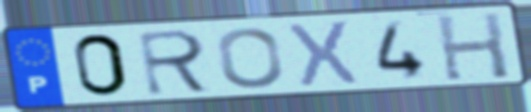0: (70, 32, 132, 99)
4: (374, 19, 430, 80)
H: (432, 11, 513, 83)
O: (214, 25, 286, 91)
R: (135, 27, 216, 97)
X: (285, 18, 361, 89)
